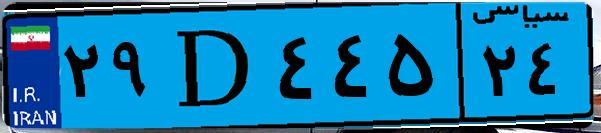2: (57, 26, 110, 100), (475, 38, 525, 113)
4: (270, 28, 330, 110), (330, 28, 385, 110), (525, 38, 570, 115)
5: (385, 28, 445, 110)
9: (110, 28, 158, 98)
D: (158, 12, 270, 120)
